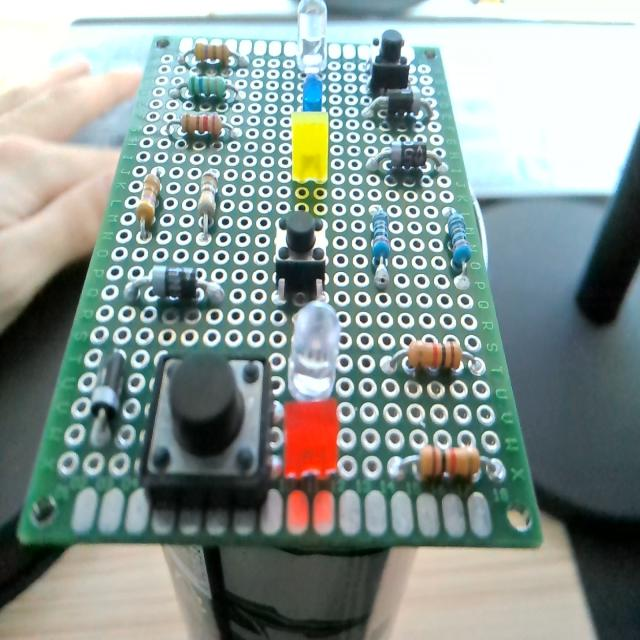diode: (368, 142, 448, 182), (92, 351, 125, 440), (143, 262, 207, 302), (363, 93, 435, 125)
led: (280, 394, 345, 496), (288, 301, 342, 402), (292, 112, 330, 184), (296, 0, 328, 73), (302, 72, 324, 111)
resistor: (402, 436, 497, 478), (385, 336, 482, 376), (444, 206, 474, 288), (166, 114, 242, 146), (192, 169, 222, 235), (172, 78, 239, 104), (371, 203, 391, 290), (136, 170, 161, 230), (194, 42, 230, 65)
switch: (136, 347, 270, 497), (275, 209, 328, 304), (367, 29, 411, 94)
